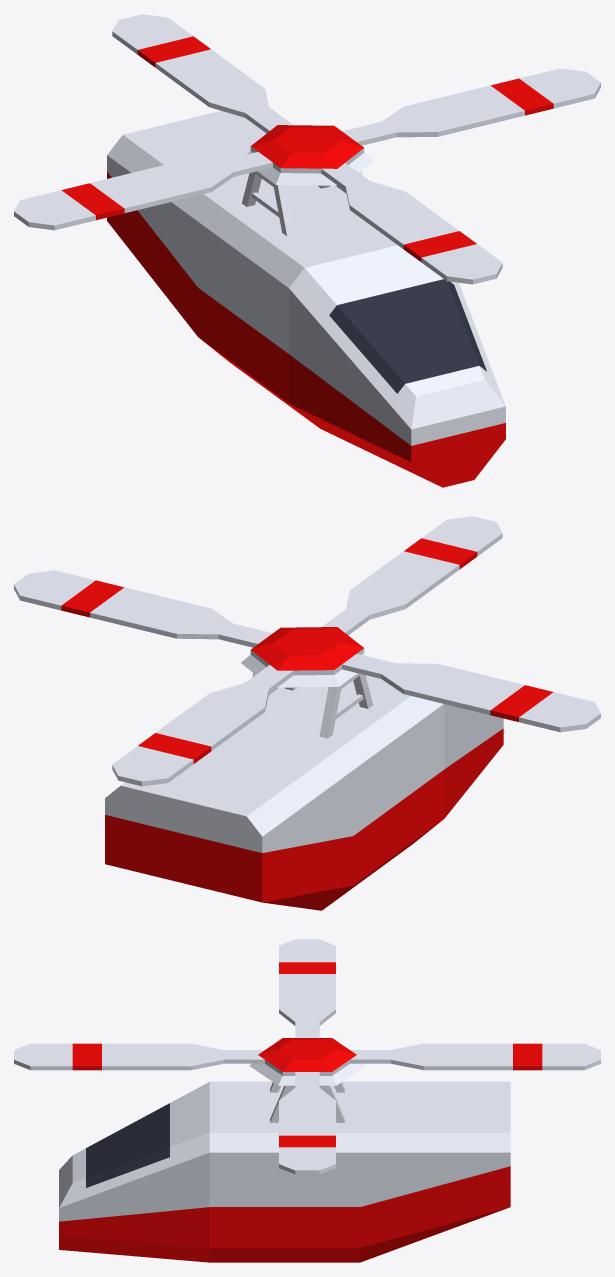
The model's file is TranportHelicopter.fbx.
3 views of the same model, one above another, from view 1: azimuth 30°, elevation 25°; view 2: azimuth 150°, elevation 25°; view 3: azimuth 270°, elevation 25° (orthographic). The views are drawn at different scales.
Visible parts, largest first — view 1: mergedBlocks; view 2: mergedBlocks; view 3: mergedBlocks.
Part boxes in pixels (x1,y1,x2,y2): mergedBlocks: (14, 14, 600, 487); mergedBlocks: (14, 516, 600, 910); mergedBlocks: (14, 939, 600, 1262).
Bounding box in the file's own units: 36.34 × 14.19 × 39.
